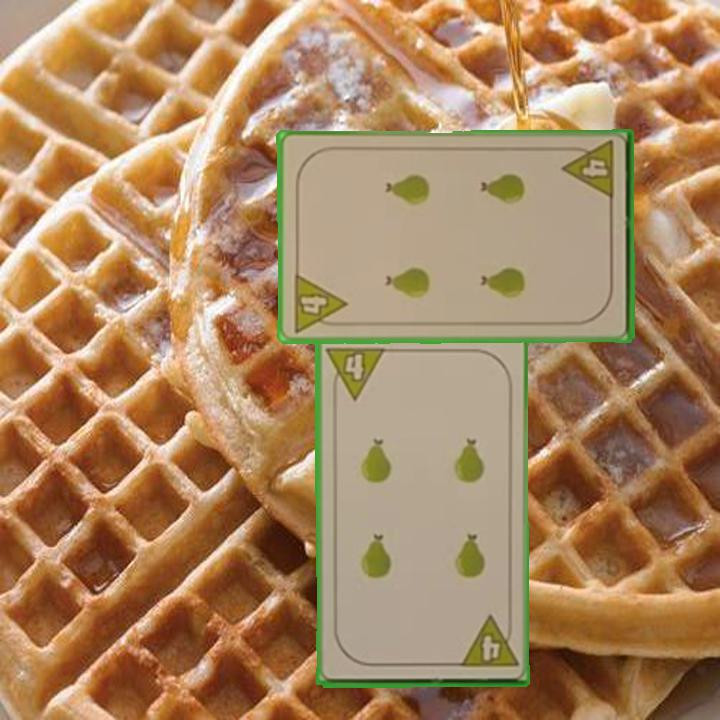4p: (323, 342, 388, 402), (289, 270, 349, 335), (456, 613, 521, 670), (560, 138, 617, 203)
